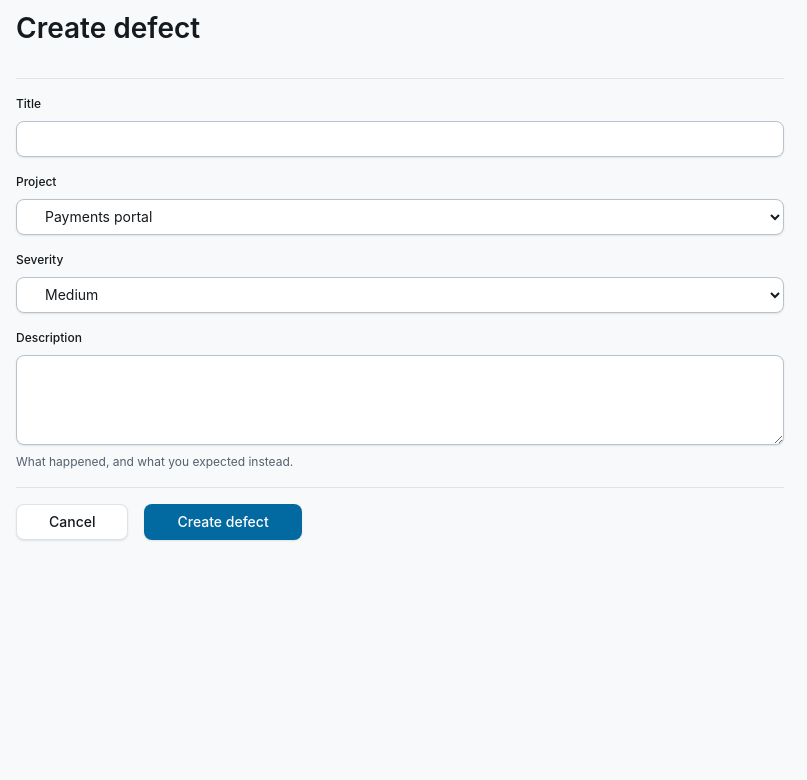
Scenario: CreateDefectPage › says creating defects is coming soon once the title is filled in
In the field labelled "Title": (400, 139) [16,121,784,157], type "Broken login"
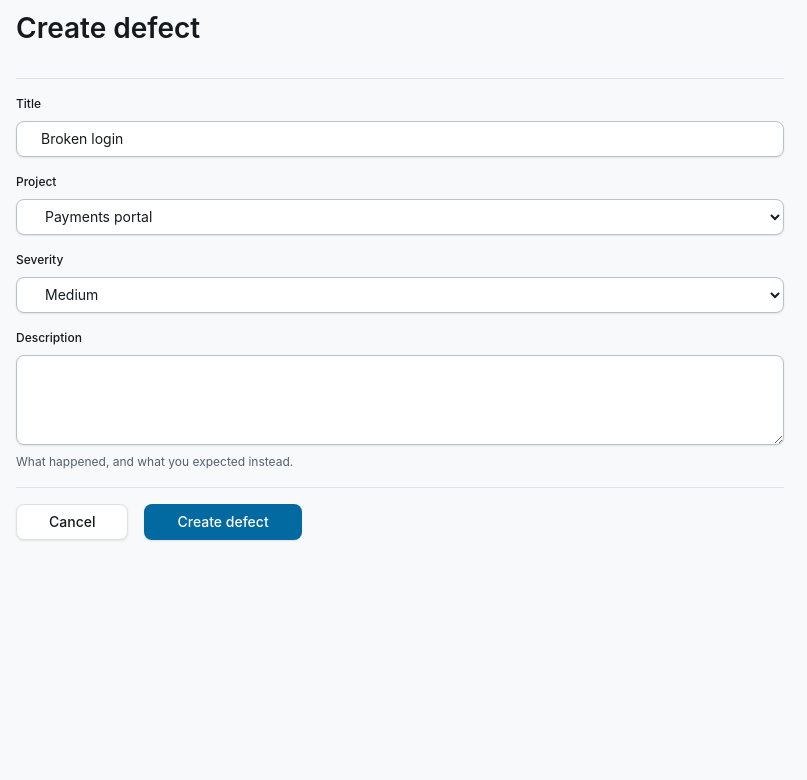
Click the button "Create defect": (223, 522) [144,504,302,540]
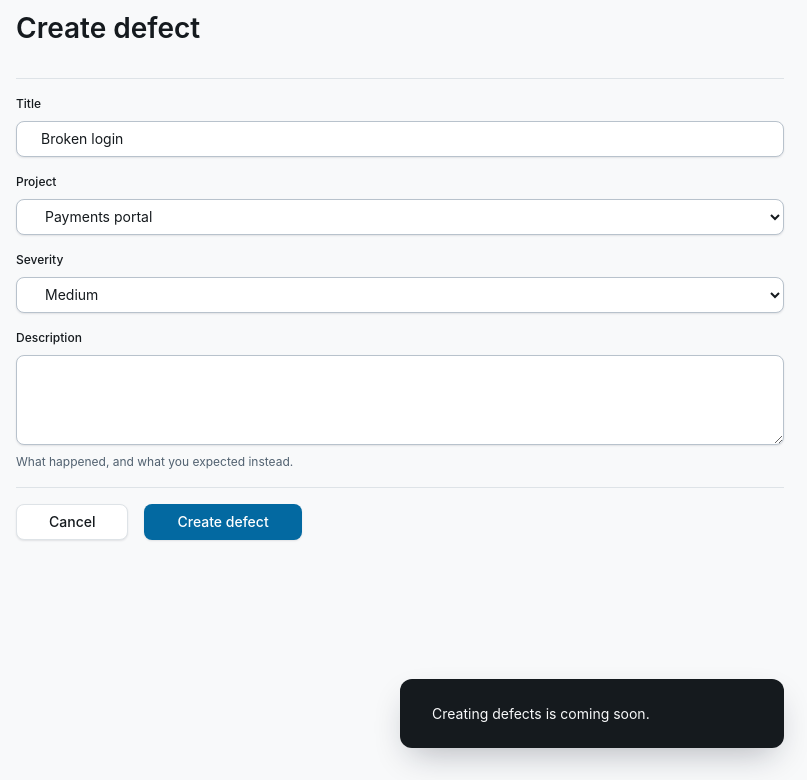
Expected: the message reads "Creating defects is coming soon.", [432,705,650,722]
